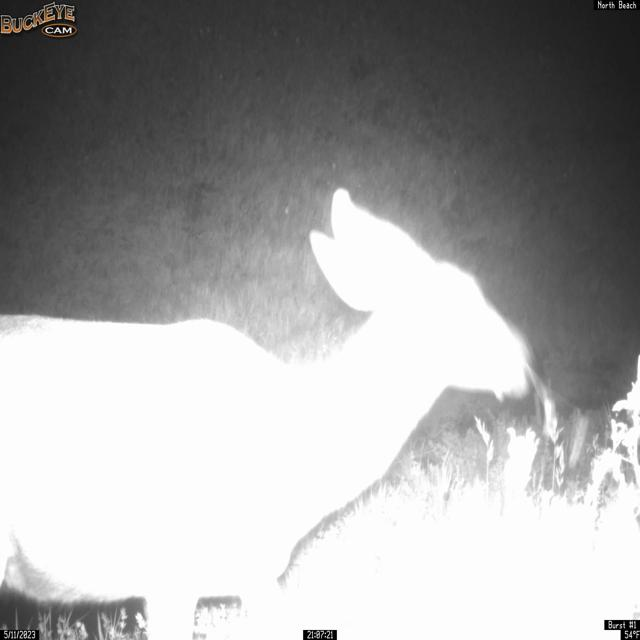deer: (0, 187, 539, 640)
